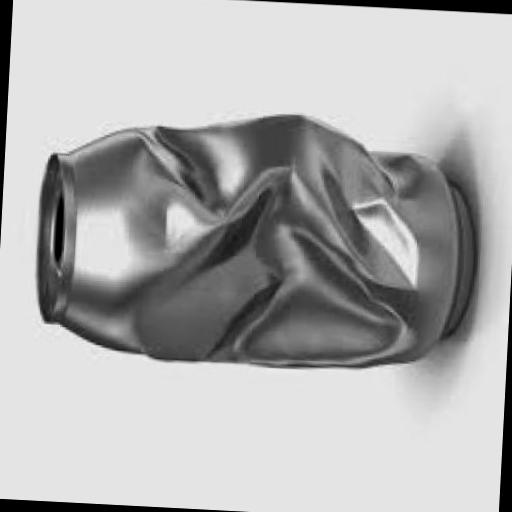metal: (32, 100, 482, 380)
